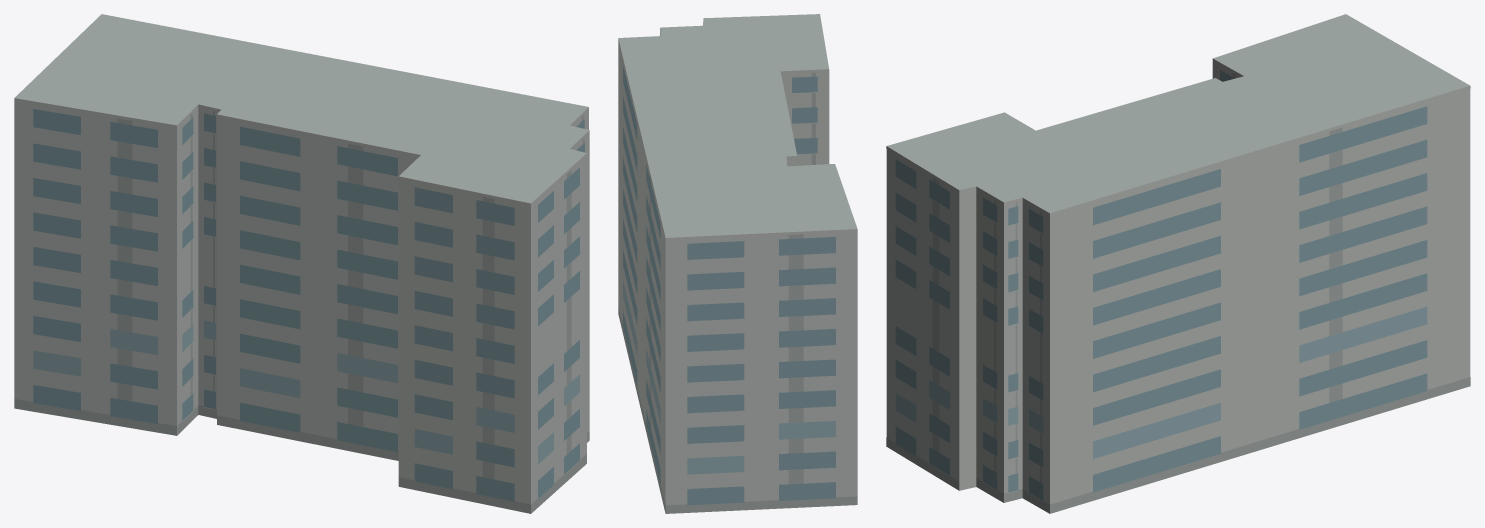
File: survey-upis-32750300.glb
3 renders of one model, left to right at view 1: azimuth 30°, elevation 25°; view 2: azimuth 150°, elevation 25°; view 3: azimuth 270°, elevation 25°, orthographic. The views are drawn at different scales.
Parts seen in each view (by area): view 1: survey-upis-32750300.tmp; view 2: survey-upis-32750300.tmp; view 3: survey-upis-32750300.tmp.
Part boxes in pixels (left/top/right/bottom): survey-upis-32750300.tmp: left=14, top=14, right=589, bottom=513; survey-upis-32750300.tmp: left=618, top=14, right=857, bottom=513; survey-upis-32750300.tmp: left=886, top=14, right=1470, bottom=513.
Size of the model in its own units: 34.57 by 24.3 by 42.79.
